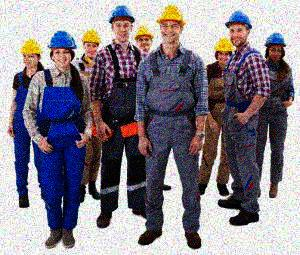helmet: (156, 4, 187, 45), (47, 30, 78, 70), (108, 4, 136, 42), (225, 9, 252, 46), (265, 31, 288, 61), (212, 37, 235, 65), (21, 39, 43, 68), (133, 25, 156, 52), (80, 28, 102, 56)
